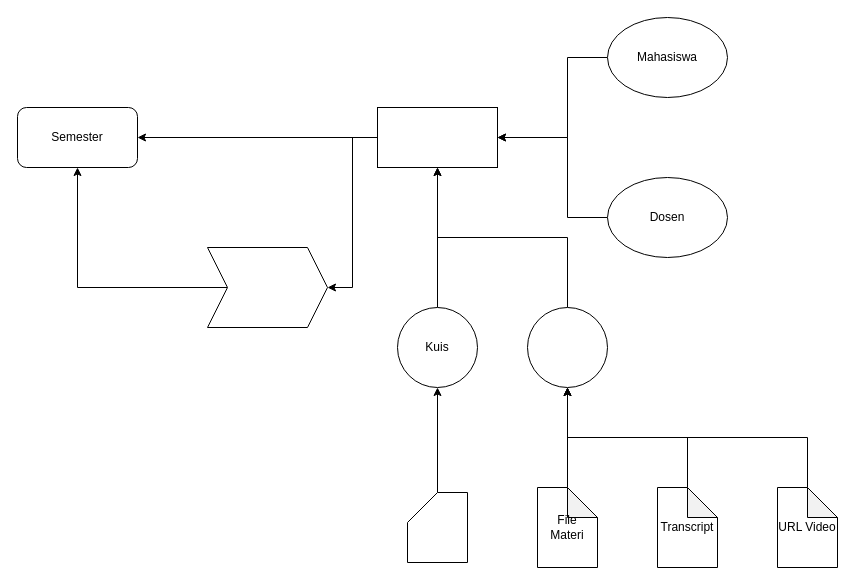
Image size: 855x585. Some labels were removed from this diagram. Here are the shapes that lost their labels. From the top down, the centre of each, then its label:
pixel 437 137: Mata kuliah
pixel 267 287: Kelas
pixel 567 347: Materi
pixel 437 527: Soal
